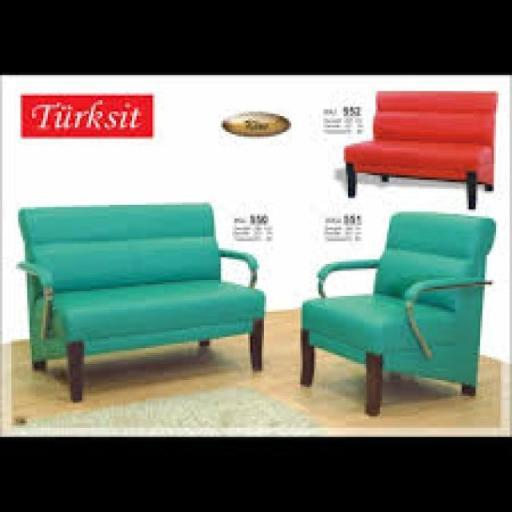sofa: (10, 179, 266, 427), (314, 186, 508, 426)
